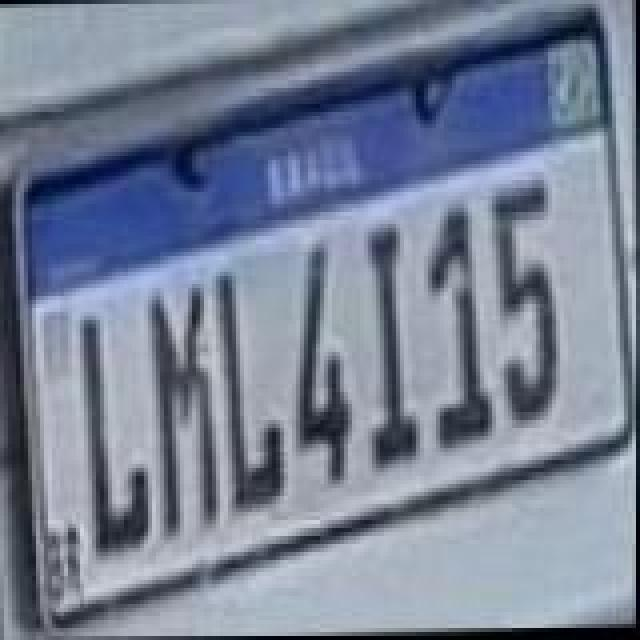1: (426, 204, 498, 452)
4: (296, 240, 356, 488)
5: (488, 174, 564, 430)
I: (366, 222, 422, 470)
L: (78, 314, 154, 562), (214, 268, 290, 516)
M: (146, 276, 222, 540)
